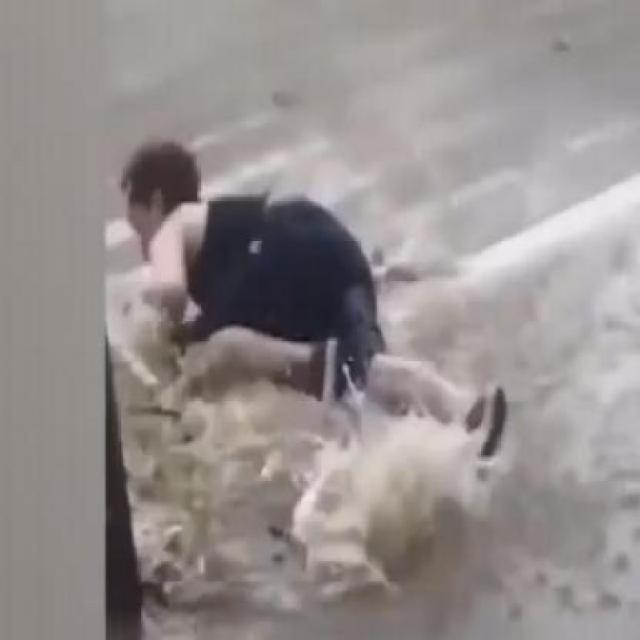fall: (122, 134, 513, 478)
